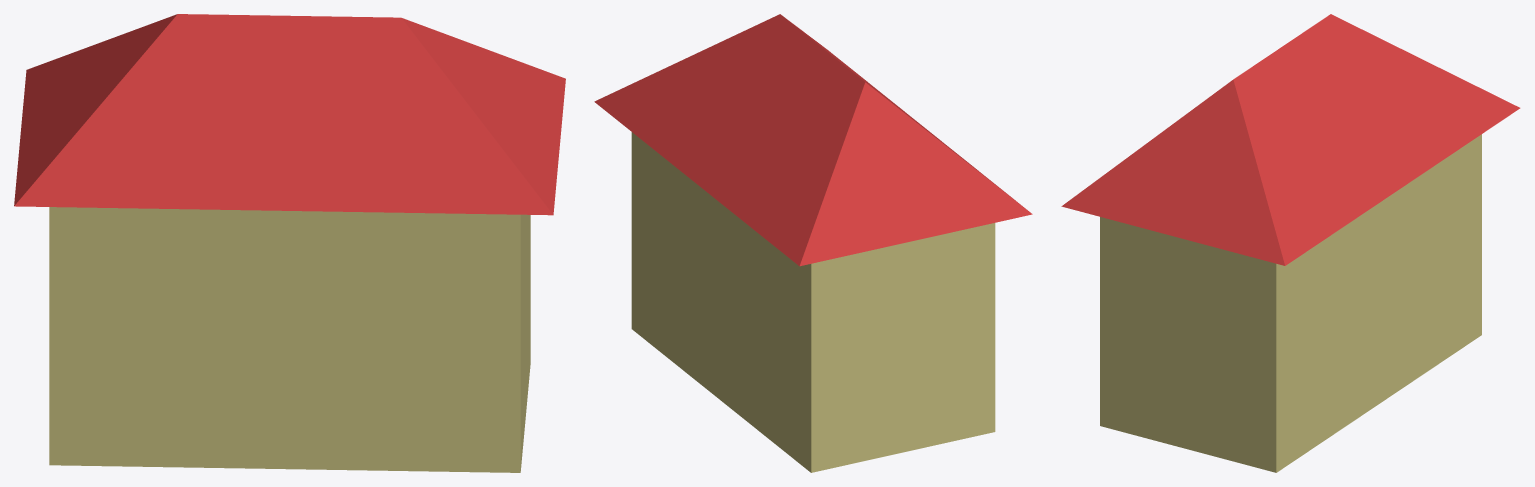
3 renders of one model, left to right at view 1: azimuth 30°, elevation 25°; view 2: azimuth 150°, elevation 25°; view 3: azimuth 270°, elevation 25°, orthographic. The views are drawn at different scales.
Visible parts, largest first — view 1: group_5, group_3, group_4; view 2: group_5, group_3, group_4; view 3: group_5, group_3, group_4.
Boxes of the visible parts, bbox=[...] form: group_5: bbox=[49, 207, 530, 472]; group_3: bbox=[14, 14, 565, 215]; group_4: bbox=[14, 58, 552, 215]; group_5: bbox=[631, 132, 995, 472]; group_3: bbox=[594, 14, 1032, 266]; group_4: bbox=[800, 68, 1030, 265]; group_5: bbox=[1100, 134, 1481, 472]; group_3: bbox=[1061, 14, 1520, 265]; group_4: bbox=[1062, 179, 1130, 205].
Size of the model in its own units: 18.41 by 16.42 by 13.07.
